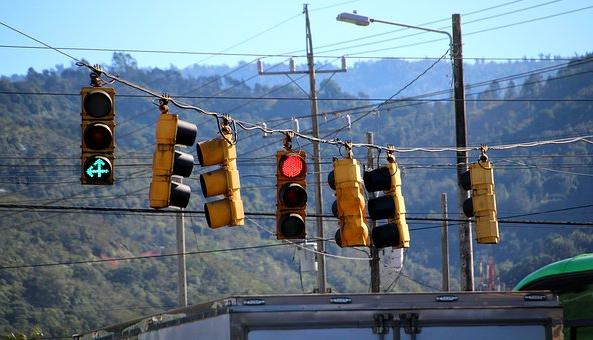trafic: (274, 149, 306, 239)
